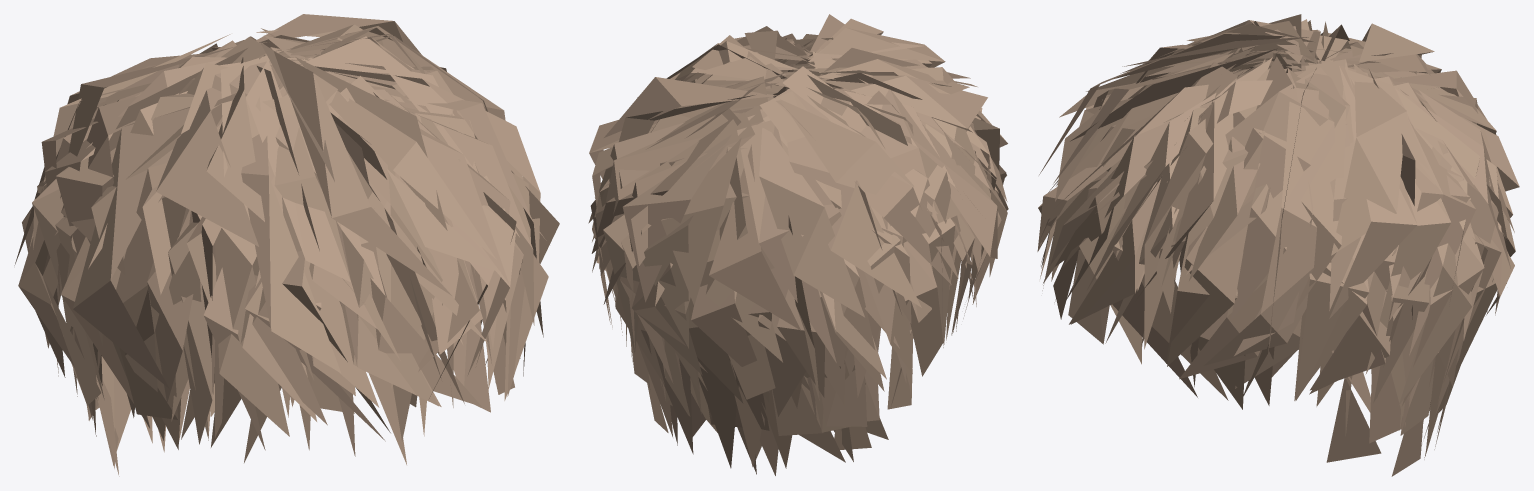
File: male_hair_13_lod2.glb
3 views of the same model, side by side, from view 1: azimuth 30°, elevation 25°; view 2: azimuth 150°, elevation 25°; view 3: azimuth 270°, elevation 25° (orthographic). The views are drawn at different scales.
Parts seen in each view (by area): view 1: hair_13; view 2: hair_13; view 3: hair_13.
Part boxes in pixels (<box>): hair_13: <box>14,14,559,476</box>; hair_13: <box>588,14,1008,475</box>; hair_13: <box>1037,14,1519,476</box>.
Bounding box in the file's own units: 0.1964 × 0.1941 × 0.2143.
